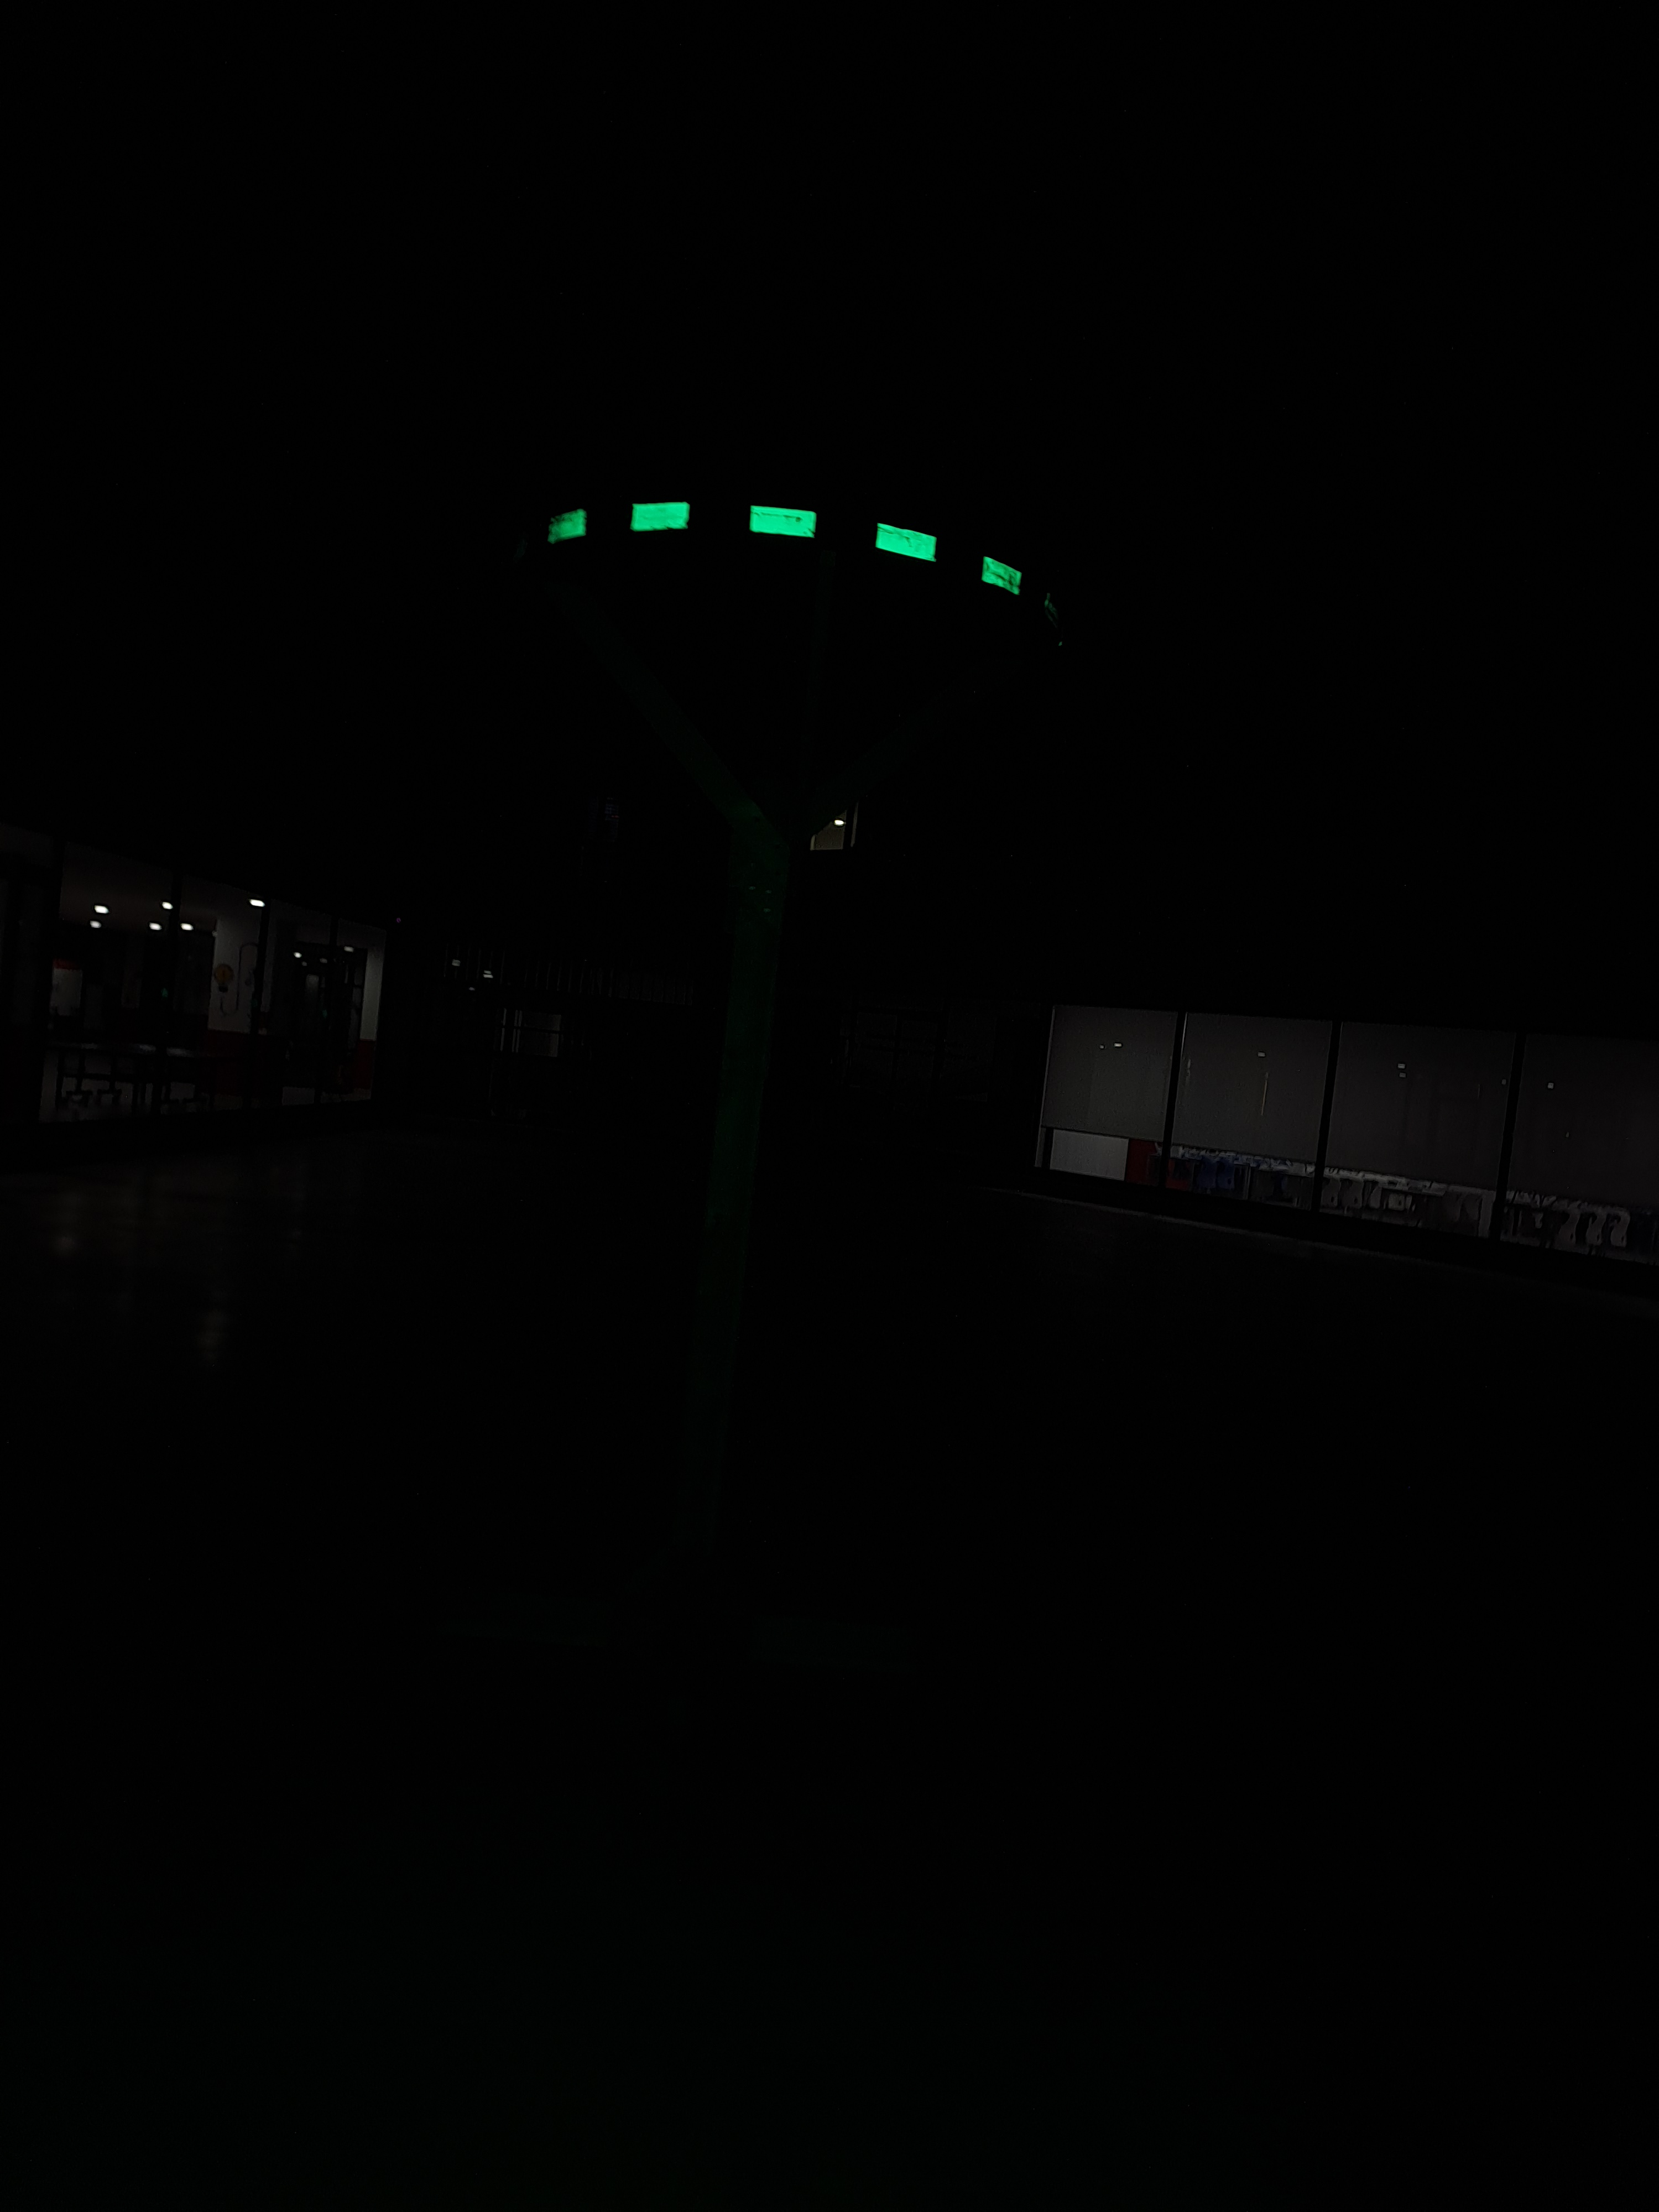hoop: (540, 488, 1026, 608)
